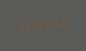nine: (35, 20, 40, 31), (59, 18, 64, 29)
one: (47, 19, 52, 30)
six: (17, 22, 22, 32), (29, 21, 34, 31)
three: (41, 20, 46, 30)
two: (53, 19, 58, 29)
zero: (23, 21, 28, 32)
